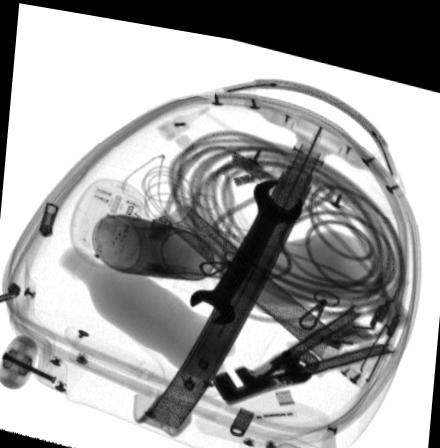Pliers: (212, 289, 396, 399)
Wrench: (189, 171, 303, 317)
